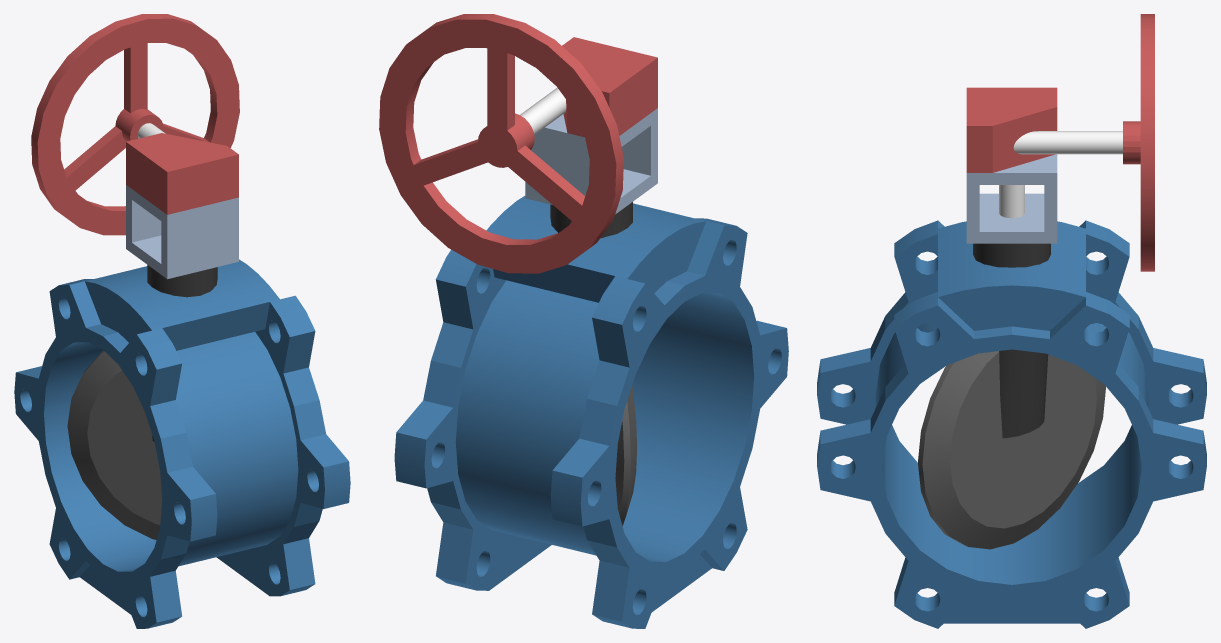
File: ButterFlyValve.fbx
The picture shows the model from 3 angles, left to right: view 1: azimuth 30°, elevation 25°; view 2: azimuth 150°, elevation 25°; view 3: azimuth 270°, elevation 25°; orthographic projection. The views are drawn at different scales.
Visible parts, largest first — view 1: Flange_40_1_2, Flange_40_1_1, Group3, Model, Group1, Group2; view 2: Flange_40_1_2, Flange_40_1_1, Group3, Model, Group1, Group2; view 3: Flange_40_1_1, Group1, Flange_40_1_2, Model, Group3, Group2.
Part boxes in pixels (left/top/right/bottom): Flange_40_1_2: left=14, top=266, right=244, bottom=628; Flange_40_1_1: left=200, top=259, right=350, bottom=596; Group3: left=31, top=14, right=239, bottom=235; Model: left=126, top=133, right=238, bottom=279; Group1: left=67, top=351, right=162, bottom=539; Group2: left=147, top=265, right=217, bottom=441; Flange_40_1_2: left=519, top=203, right=788, bottom=628; Flange_40_1_1: left=394, top=196, right=660, bottom=590; Group3: left=379, top=14, right=623, bottom=273; Model: left=525, top=37, right=657, bottom=214; Group1: left=615, top=385, right=636, bottom=525; Group2: left=550, top=202, right=632, bottom=238; Flange_40_1_1: left=817, top=254, right=1206, bottom=628; Group1: left=918, top=351, right=1105, bottom=549; Flange_40_1_2: left=817, top=220, right=1206, bottom=541; Model: left=966, top=87, right=1057, bottom=243; Group3: left=1013, top=14, right=1154, bottom=271; Group2: left=973, top=185, right=1050, bottom=438.
Size of the model in its own units: 39.48 by 96.47 by 60.
